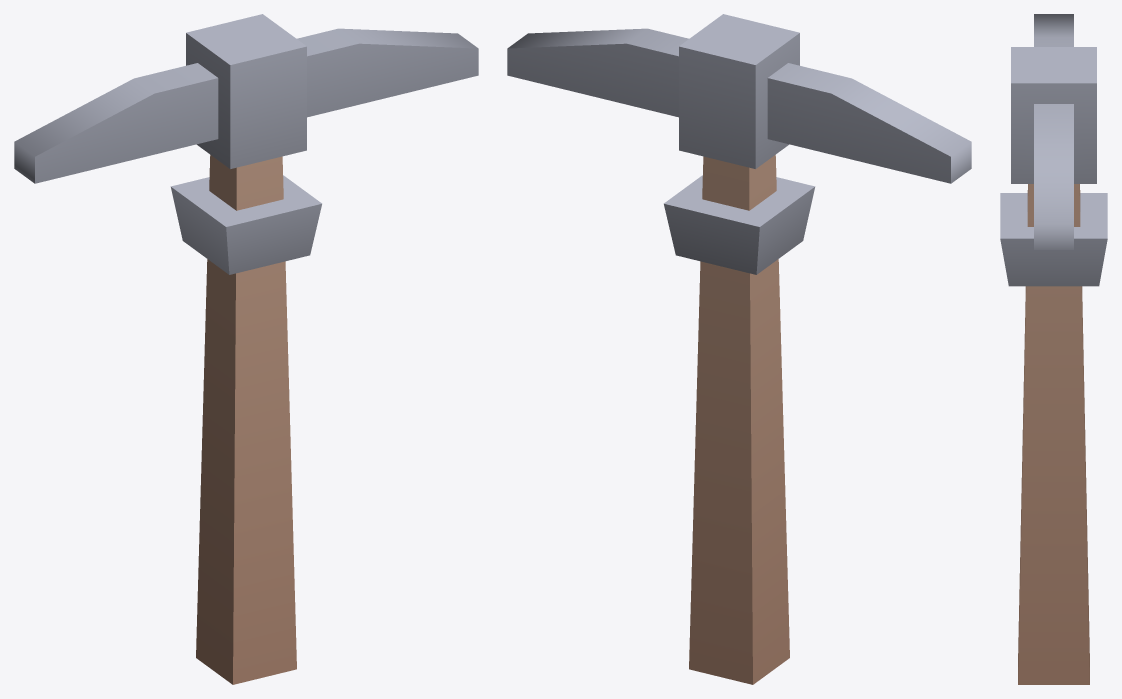
File: tool-pickaxe.glb
3 views of the same model, side by side, from view 1: azimuth 30°, elevation 25°; view 2: azimuth 150°, elevation 25°; view 3: azimuth 270°, elevation 25° (orthographic). The views are drawn at different scales.
Parts seen in each view (by area): view 1: tool-pickaxe; view 2: tool-pickaxe; view 3: tool-pickaxe.
Part boxes in pixels (x1,y1,x2,y2): tool-pickaxe: [14, 14, 478, 684]; tool-pickaxe: [507, 14, 971, 684]; tool-pickaxe: [1000, 14, 1107, 684].
Bounding box in the file's own units: 0.1786 × 0.24 × 0.0387.
